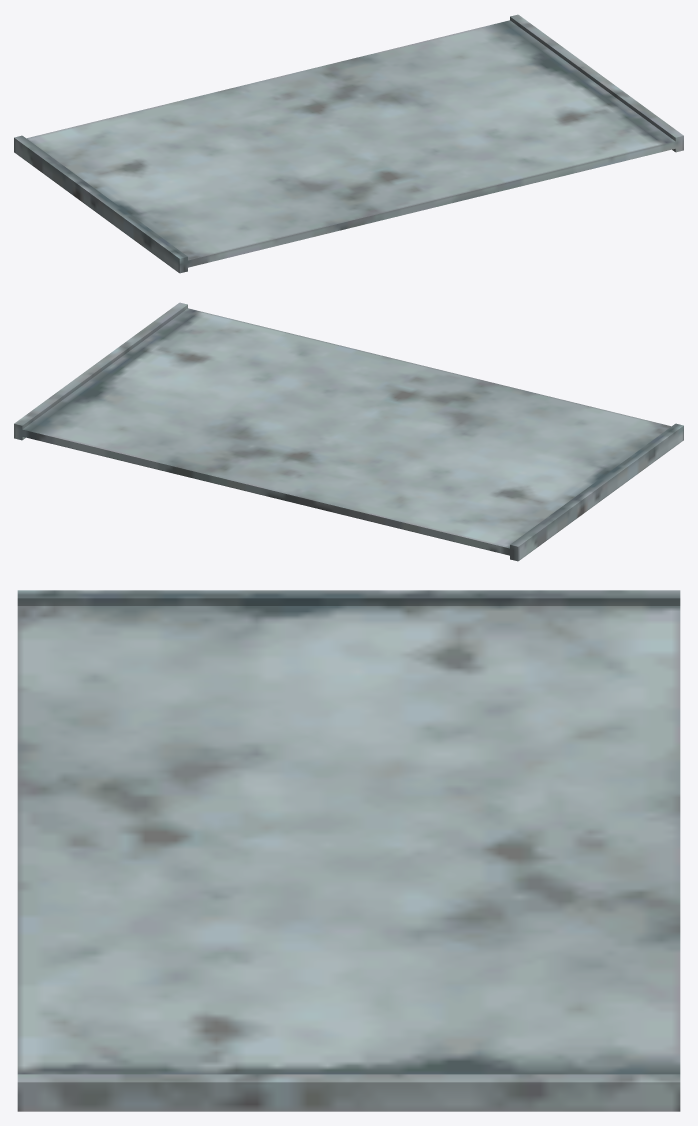
The model's file is glass_01.DAE.
3 renders of one model, top to bottom at view 1: azimuth 30°, elevation 25°; view 2: azimuth 150°, elevation 25°; view 3: azimuth 270°, elevation 25°, orthographic. The views are drawn at different scales.
Visible parts, largest first — view 1: glass_01; view 2: glass_01; view 3: glass_01.
Boxes of the visible parts, x1,y1,x2,y2 form: glass_01: (14,14,683,273); glass_01: (14,302,683,561); glass_01: (17,590,680,1111).
Size of the model in its own units: 4.25 by 2.42 by 0.1182.
